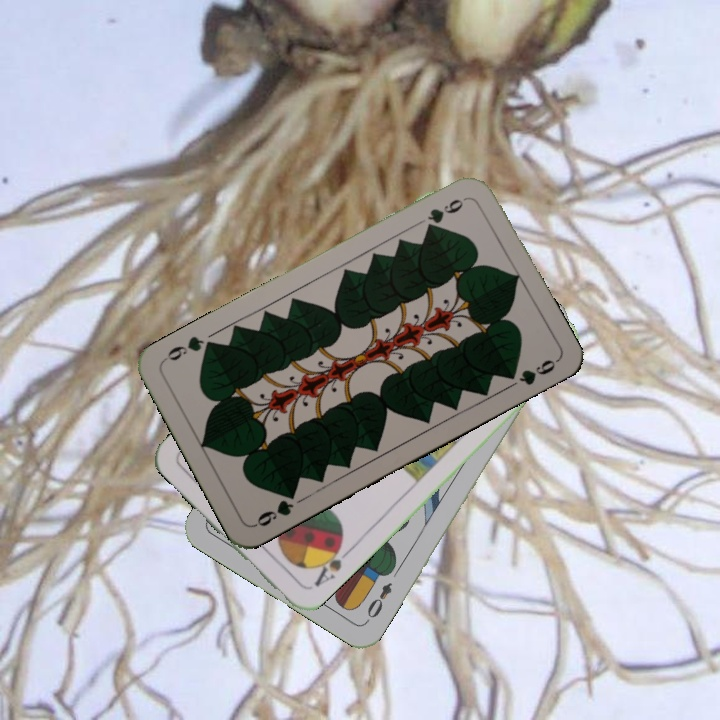EO: (361, 578, 395, 625)
G9: (250, 486, 299, 530), (422, 193, 470, 233)
SA: (309, 539, 353, 590)
